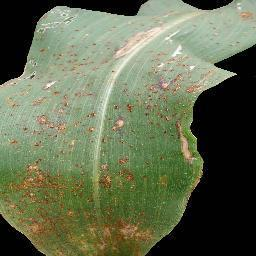Corn_Common_Rust: (101, 0, 208, 256), (0, 0, 100, 256), (208, 0, 256, 90)
